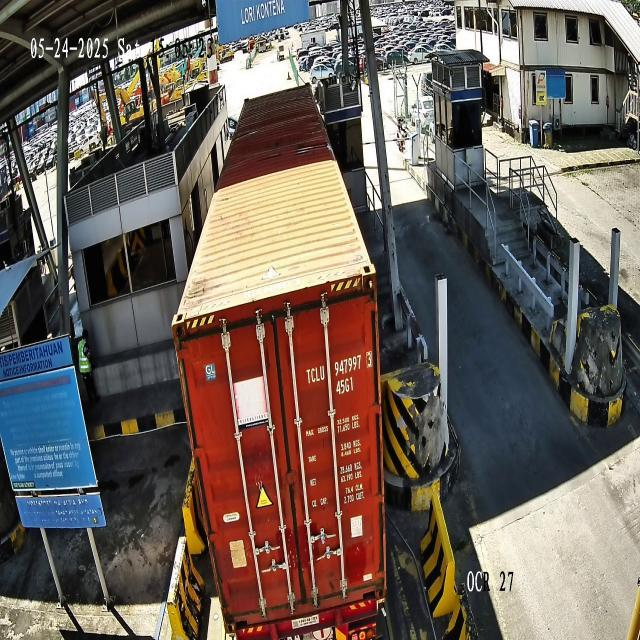ISO: (336, 376, 354, 394)
container_number: (306, 350, 372, 386)
